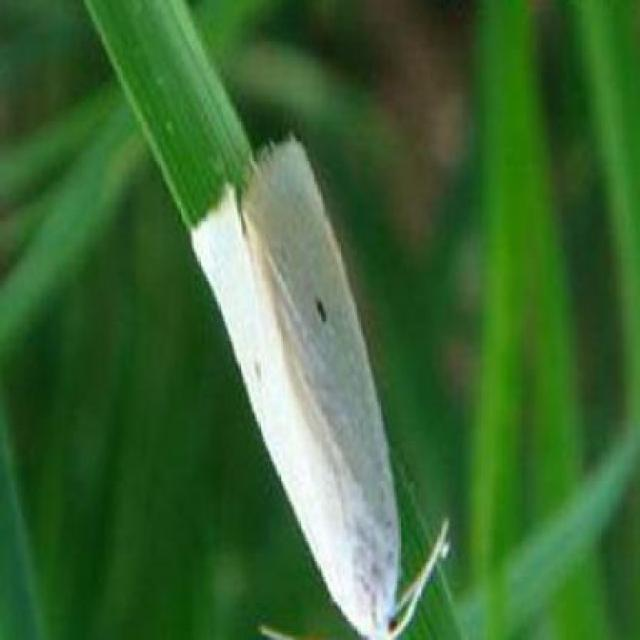stem-borer: (186, 127, 450, 640)
